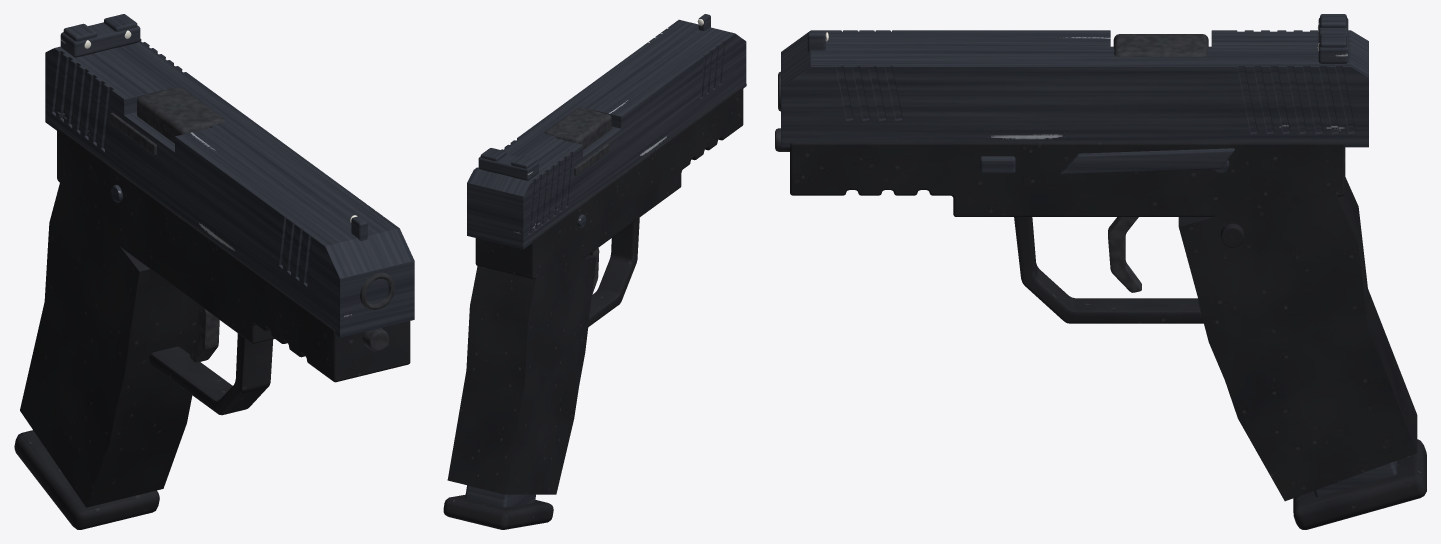
Rendered from gun_pistol.glb.
3 renders of one model, left to right at view 1: azimuth 30°, elevation 25°; view 2: azimuth 150°, elevation 25°; view 3: azimuth 270°, elevation 25°, orthographic. The views are drawn at different scales.
Visible parts, largest first — view 1: gun_pistol, slide, mag; view 2: gun_pistol, slide, mag; view 3: gun_pistol, slide, mag.
Boxes of the visible parts, x1,y1,x2,y2 form: gun_pistol: [20, 87, 410, 507]; slide: [45, 14, 414, 337]; mag: [14, 430, 159, 529]; gun_pistol: [447, 86, 743, 494]; slide: [467, 14, 746, 249]; mag: [443, 485, 553, 529]; gun_pistol: [775, 34, 1417, 501]; slide: [781, 14, 1368, 147]; mag: [1293, 439, 1426, 529].
Size of the model in its own units: 0.0345 by 0.1798 by 0.2195.
Materials: 5 (3 with a texture image).
